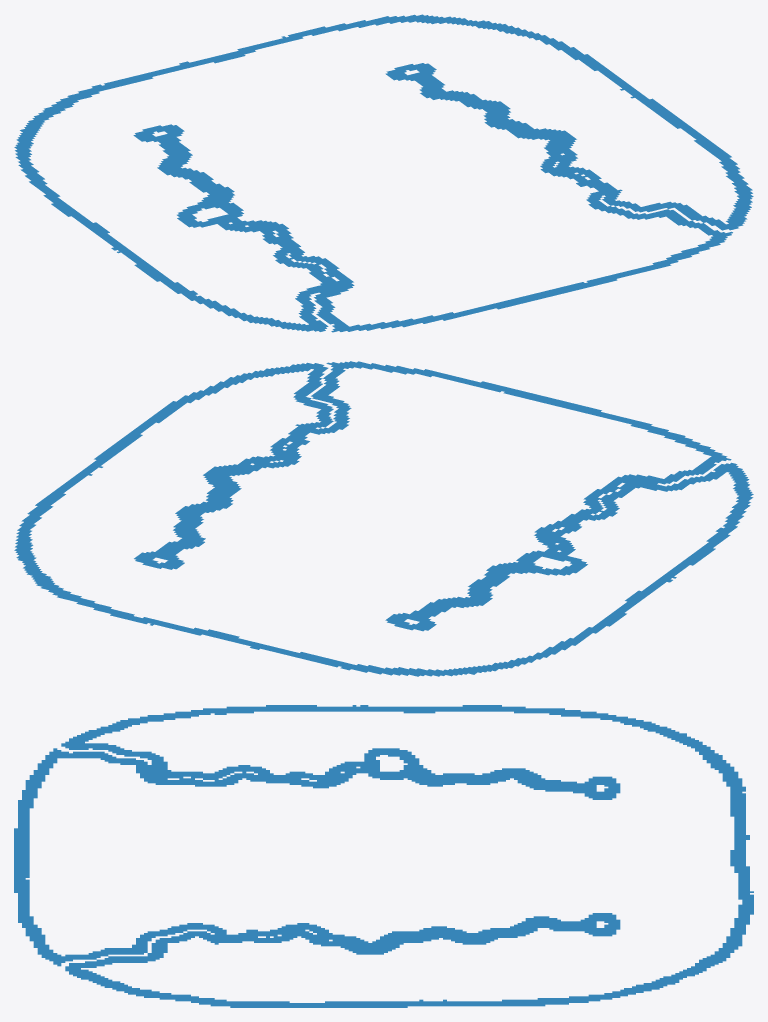
The model's file is Map-4-PlaceForWaterObjects.fbx.
3 renders of one model, top to bottom at view 1: azimuth 30°, elevation 25°; view 2: azimuth 150°, elevation 25°; view 3: azimuth 270°, elevation 25°, orthographic. The views are drawn at different scales.
Visible parts, largest first — view 1: Map-4-PlaceForWaterObjects; view 2: Map-4-PlaceForWaterObjects; view 3: Map-4-PlaceForWaterObjects.
Boxes of the visible parts, bbox=[...] form: Map-4-PlaceForWaterObjects: bbox=[14, 14, 753, 332]; Map-4-PlaceForWaterObjects: bbox=[14, 361, 753, 676]; Map-4-PlaceForWaterObjects: bbox=[14, 705, 753, 1007].
Bounding box in the file's own units: 182 × 0 × 188.
